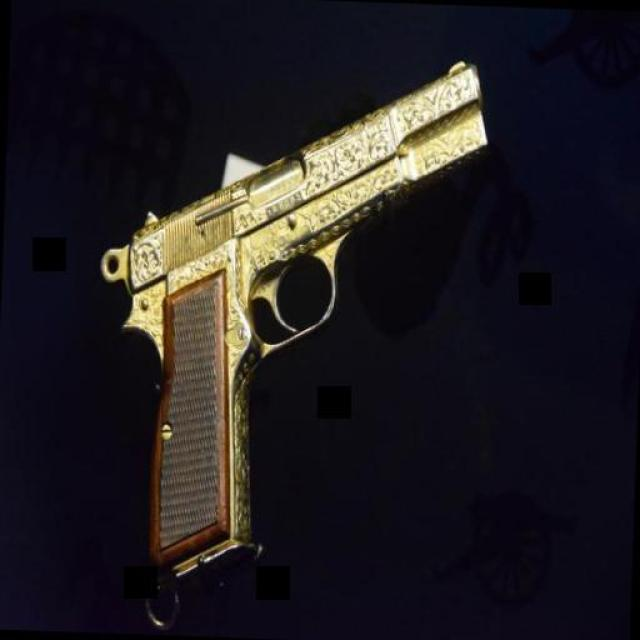gun: (76, 38, 485, 590)
